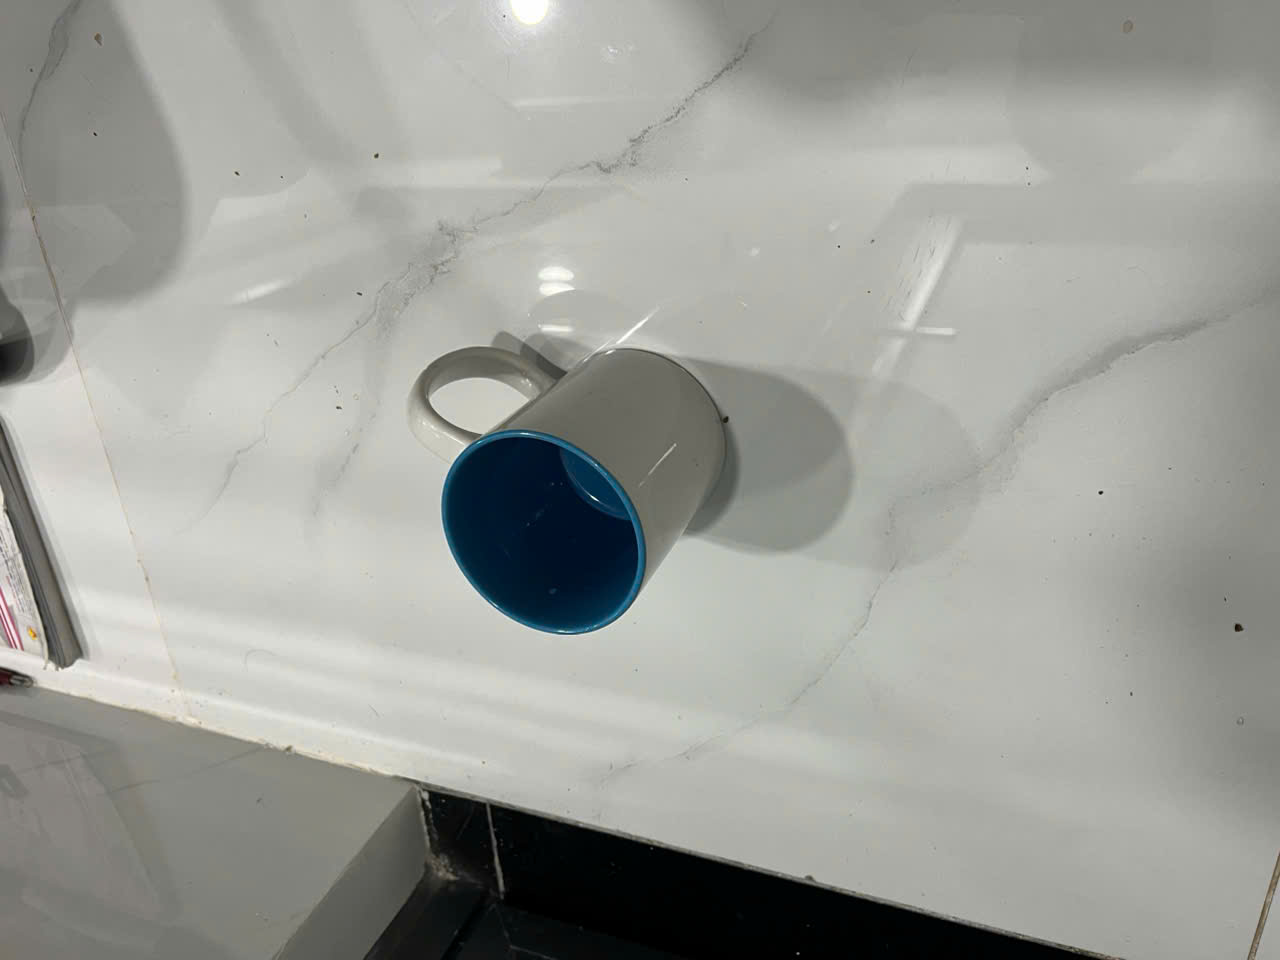ly coc: (397, 334, 747, 648)
